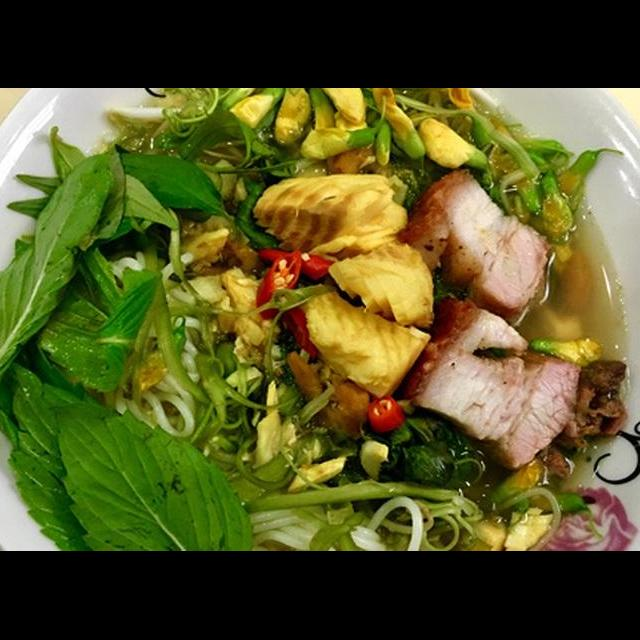bun: (95, 246, 213, 444), (233, 491, 426, 552)
bun ca: (0, 132, 640, 551)
ca: (287, 276, 435, 404), (245, 170, 414, 258), (323, 238, 451, 334)
rau ram: (106, 140, 282, 258), (166, 106, 313, 188)
thit heo quay: (390, 290, 586, 476), (389, 164, 559, 334)
